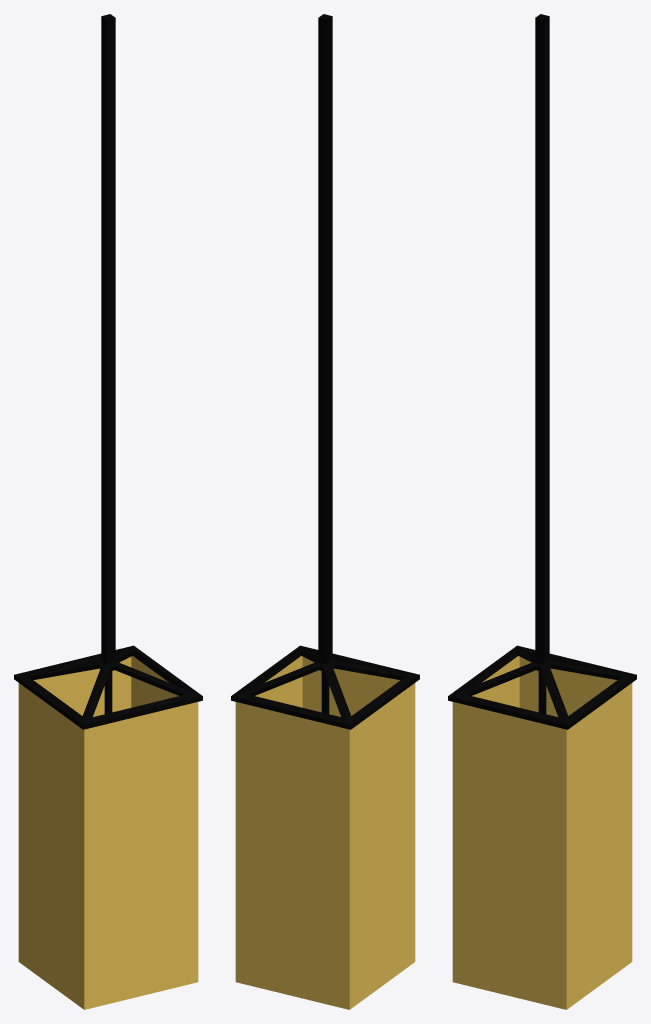
The model's file is Lampara_Techo.fbx.
3 renders of one model, left to right at view 1: azimuth 30°, elevation 25°; view 2: azimuth 150°, elevation 25°; view 3: azimuth 330°, elevation 25°, orthographic.
Visible parts, largest first — view 1: Lampara_Techo; view 2: Lampara_Techo; view 3: Lampara_Techo.
Boxes of the visible parts, x1=… form: Lampara_Techo: x1=14, y1=14, x2=202, y2=1009; Lampara_Techo: x1=231, y1=14, x2=419, y2=1009; Lampara_Techo: x1=448, y1=14, x2=636, y2=1009.
Size of the model in its own units: 26.25 by 200 by 26.25.
